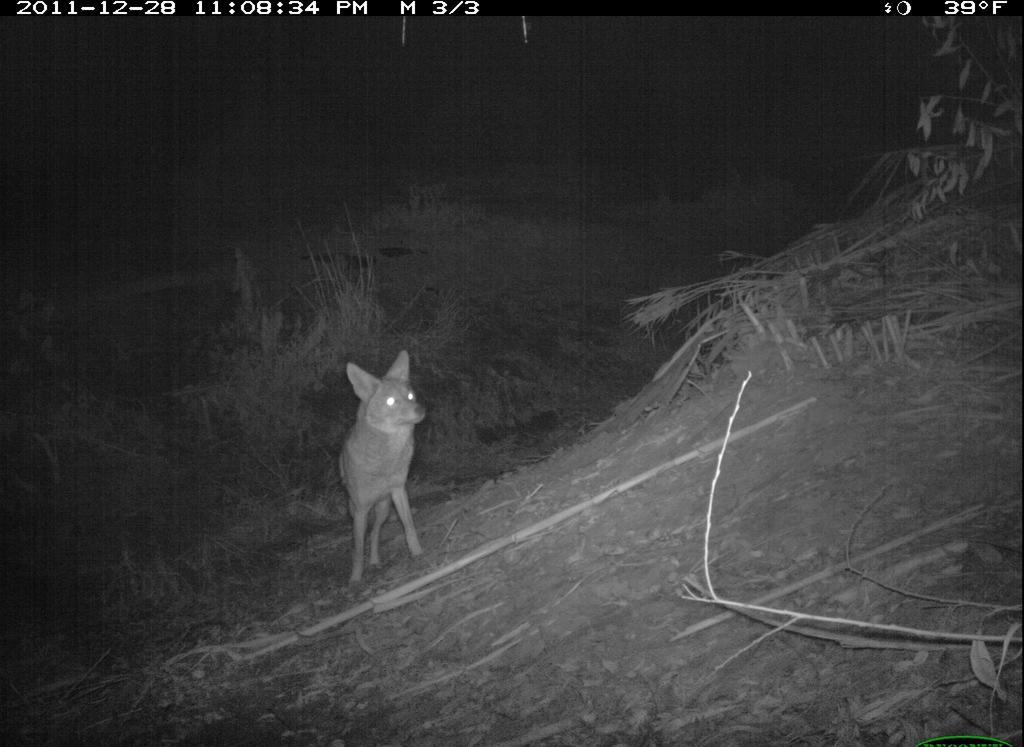coyote: (326, 350, 443, 589)
